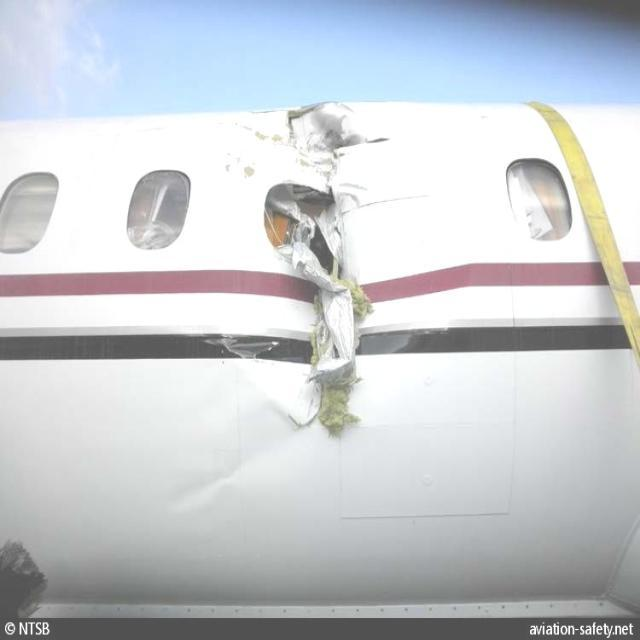crack: (263, 96, 390, 445)
dent: (360, 209, 460, 364), (139, 450, 274, 516)
